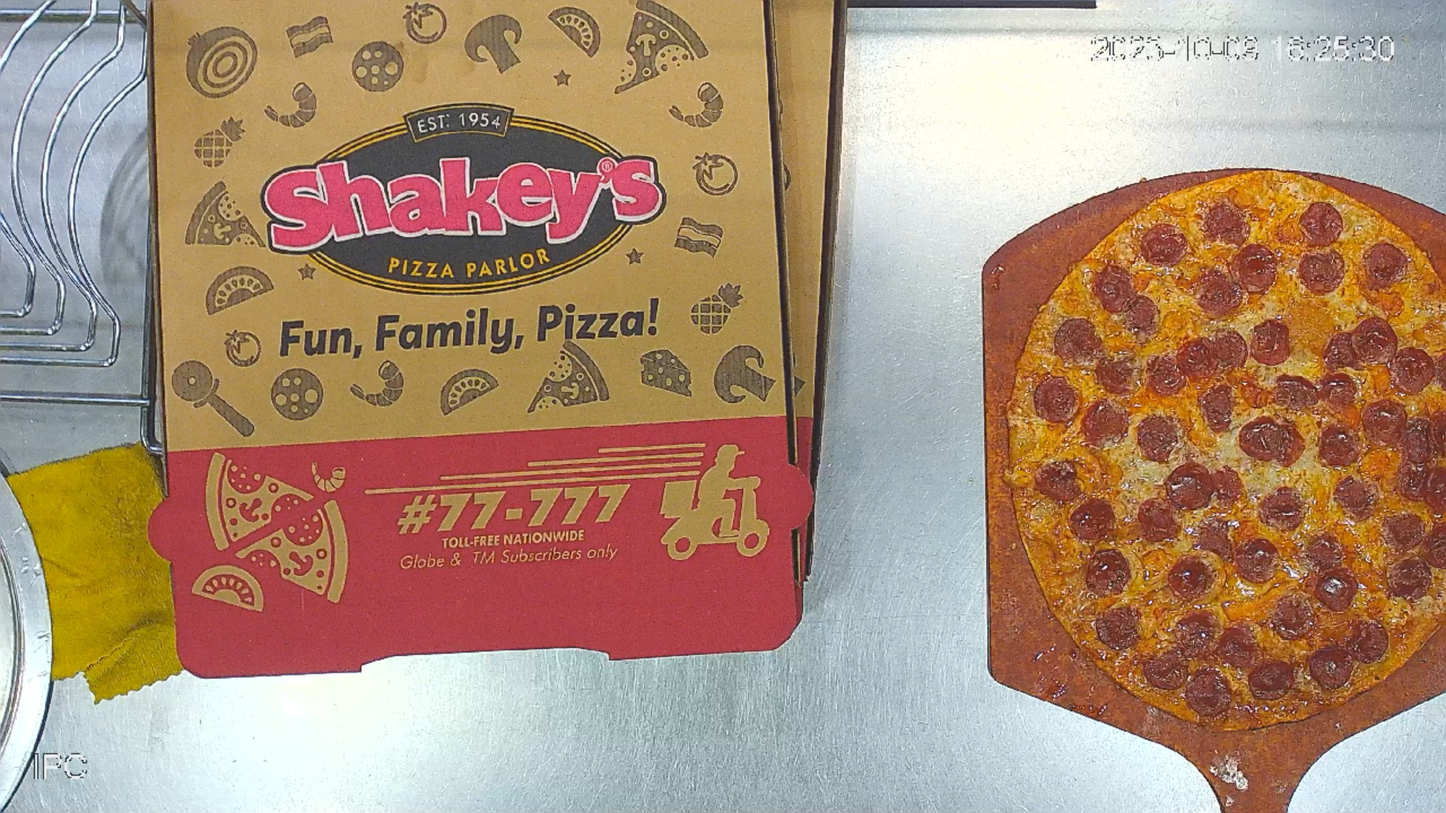pepperoni: (1005, 169, 1446, 732)
